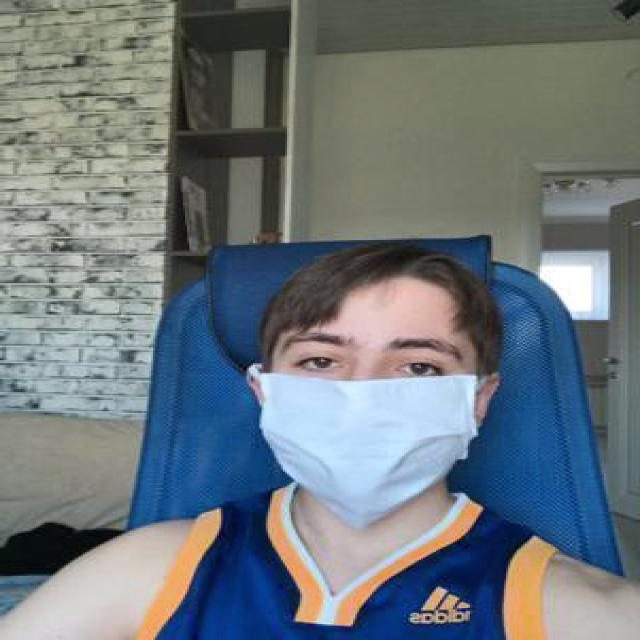face_mask: (259, 326, 485, 526)
head_nohelmet: (287, 242, 483, 318)
person: (0, 235, 602, 640)
